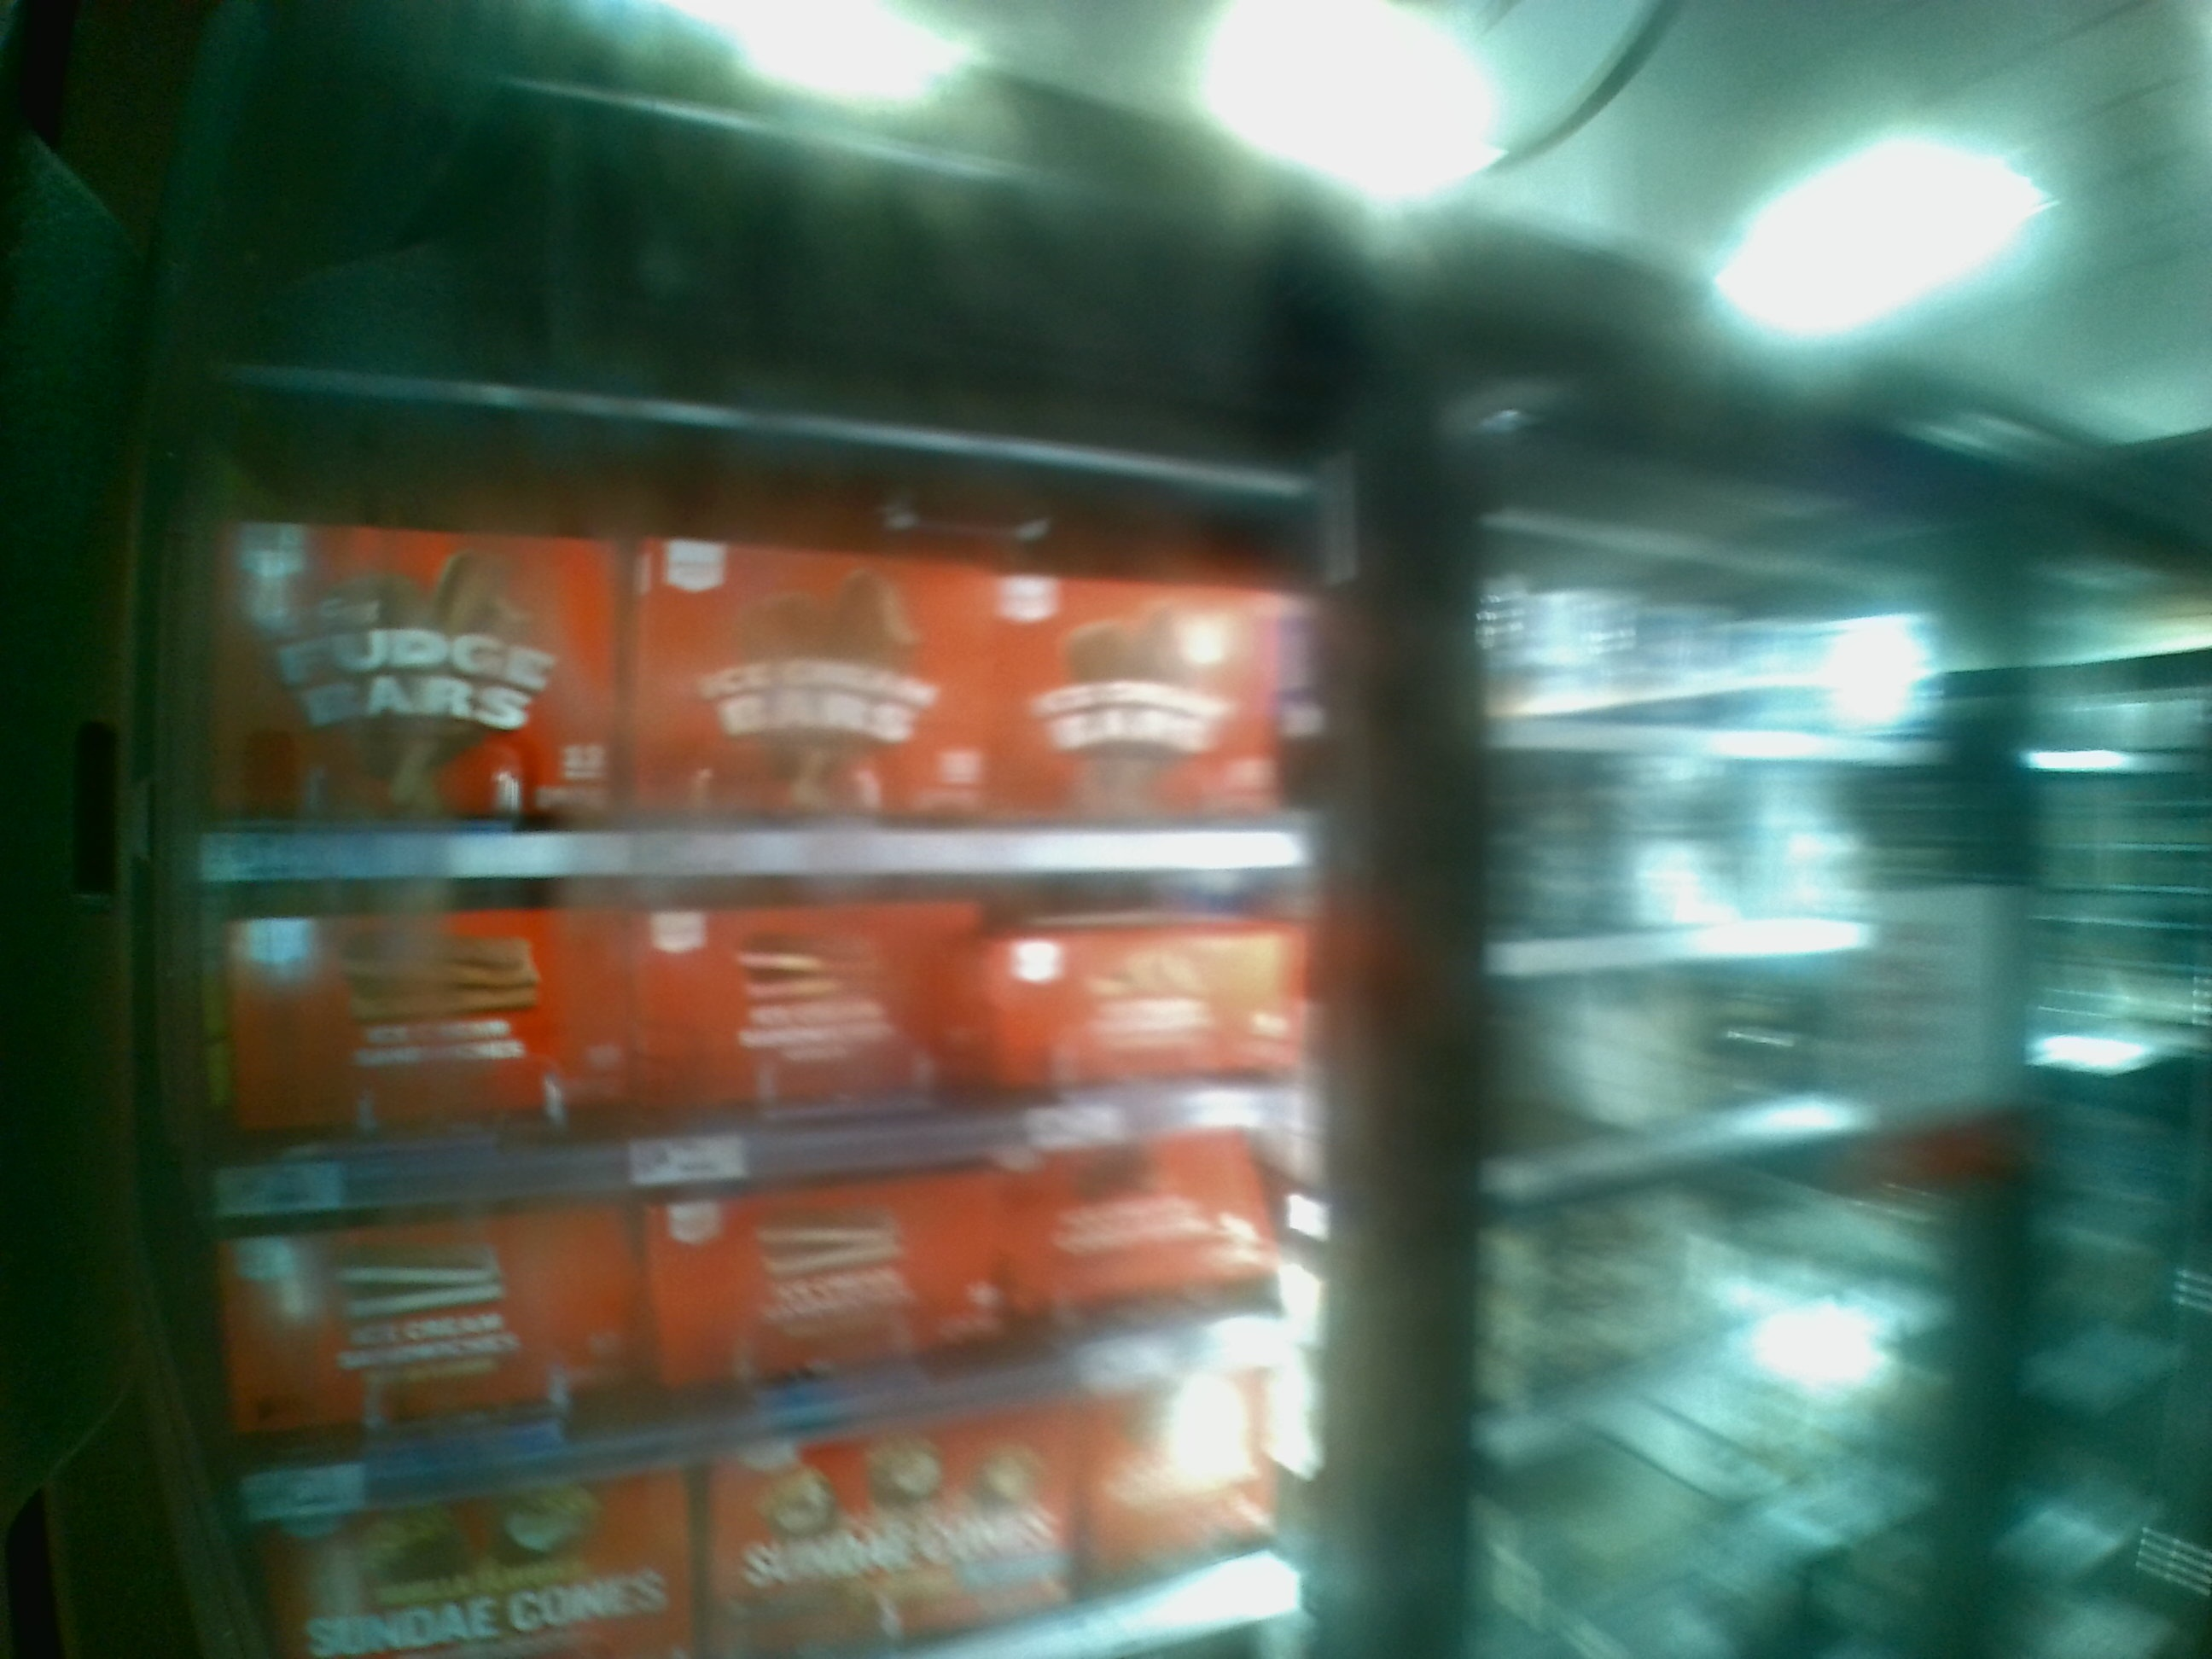shelf: (204, 430, 1301, 864), (211, 878, 1301, 1188), (247, 1164, 1324, 1462)
